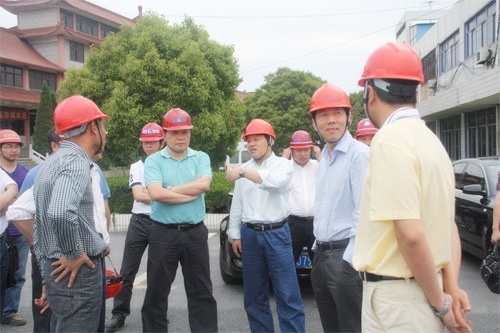red: (362, 42, 421, 127), (51, 93, 109, 153), (308, 82, 353, 144), (161, 105, 192, 151), (244, 118, 277, 159), (286, 127, 315, 168), (137, 121, 165, 156), (352, 115, 380, 148), (13, 129, 23, 163)
